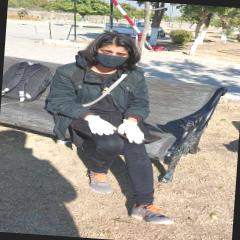gloved: (82, 114, 118, 136), (118, 119, 146, 145)
